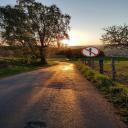NoSeguir: (81, 46, 100, 58)
